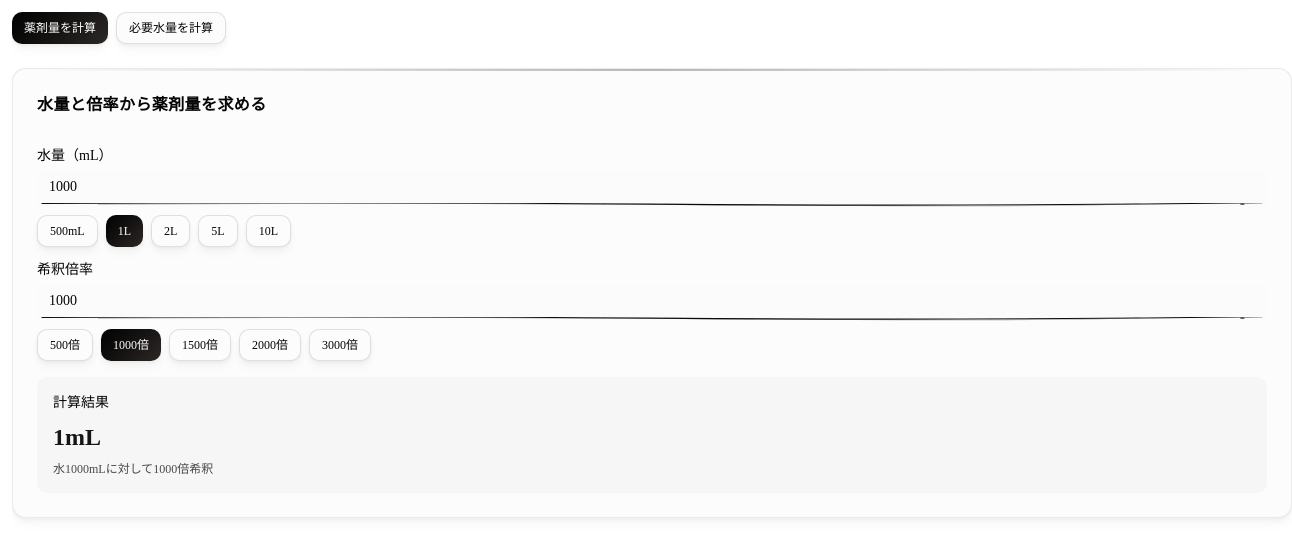
DilutionCalculator › 通常モード（水量＋倍率から薬剤量を求める） › 倍率プリセット (3000倍) を押すと 0.33mL になり警告バッジが出る
The width and height of the screenshot is (1292, 537).
What coordinates should you click on to do the following:
click the button "3000倍"
I would click on:
 (340, 345)
Its box is [309,329,371,361].
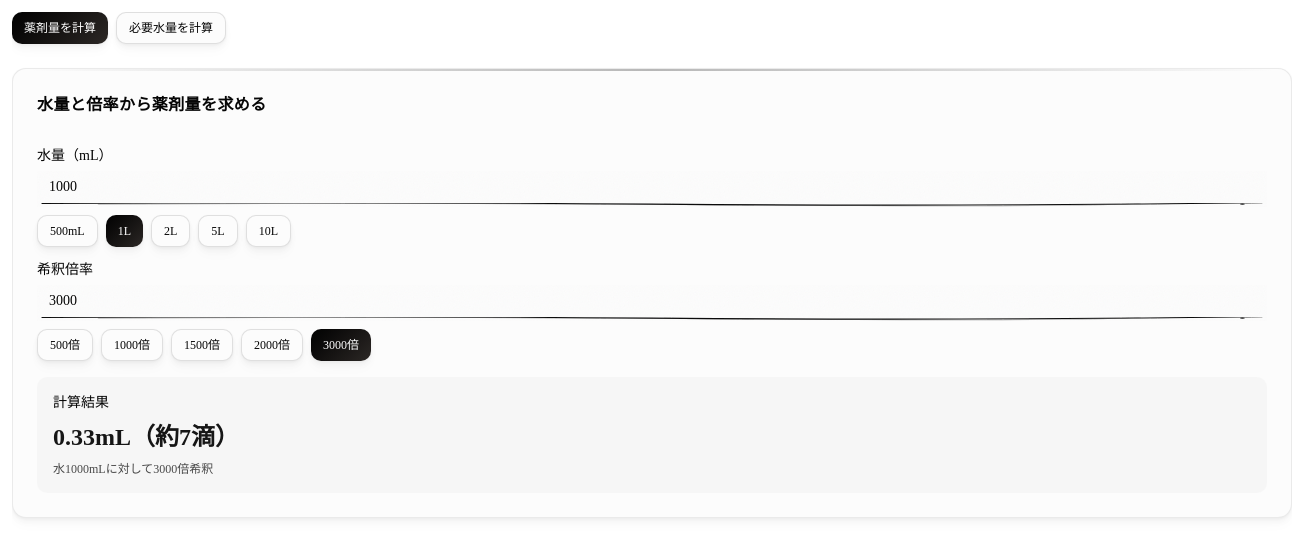
Result: the text "0.33mL（約7滴）" is shown at [53,424,239,450]
